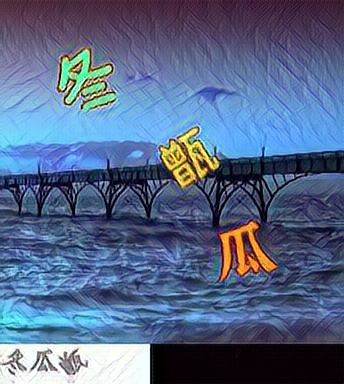B6AC: (56, 47, 116, 111)
B9CF: (214, 218, 274, 282)
EAB5: (158, 125, 218, 189)
